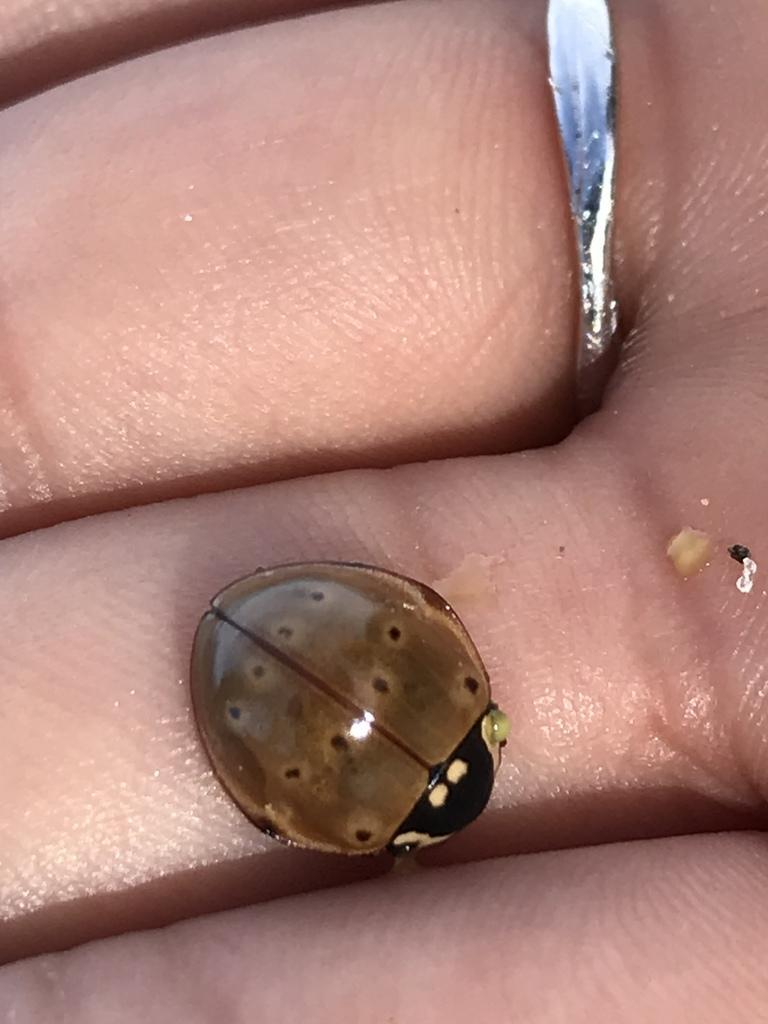ladybug: (184, 554, 516, 866)
